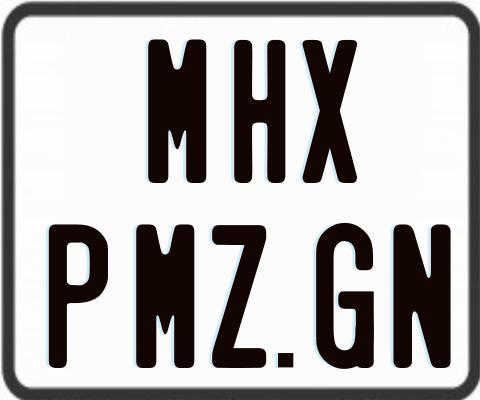G: (314, 222, 375, 373)
H: (232, 39, 289, 188)
M: (133, 221, 194, 370), (148, 37, 208, 182)
N: (392, 221, 450, 370)
P: (46, 223, 106, 367)
X: (300, 39, 358, 183)
Z: (211, 223, 265, 371)
